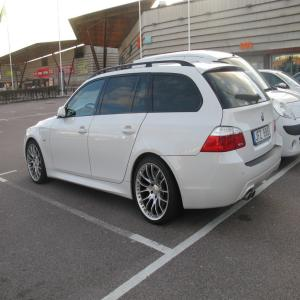Vehicle-registration-plate: (252, 126, 271, 146)
